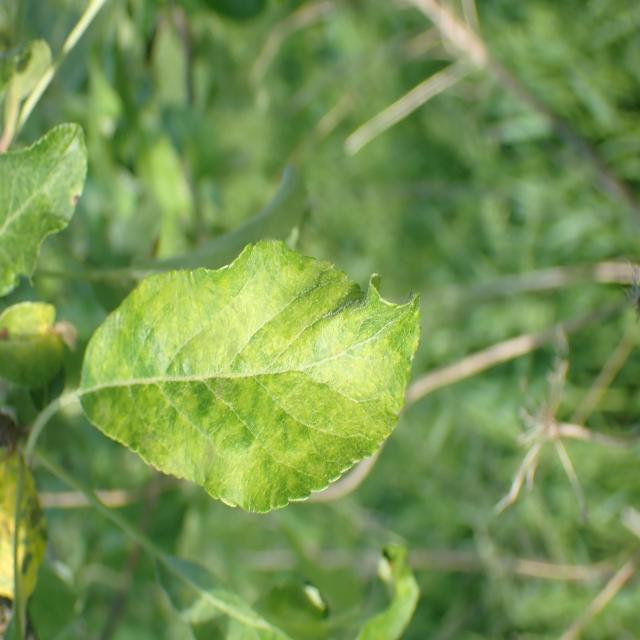scab: (102, 263, 399, 507)
